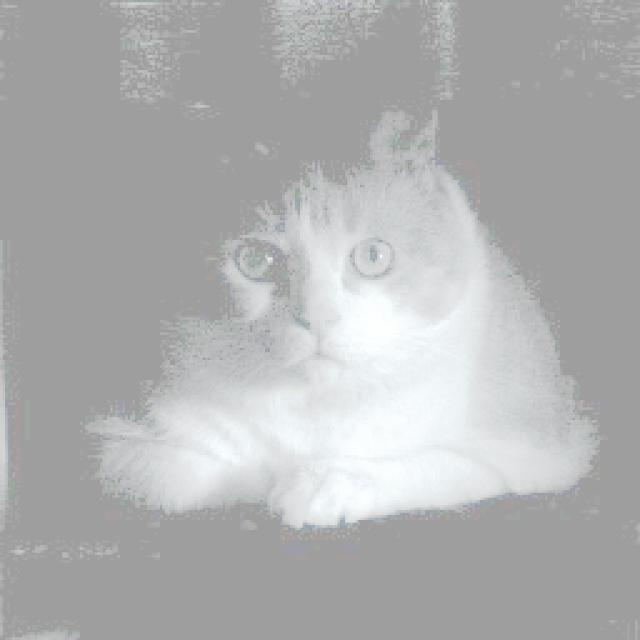cat: (81, 61, 599, 549)
